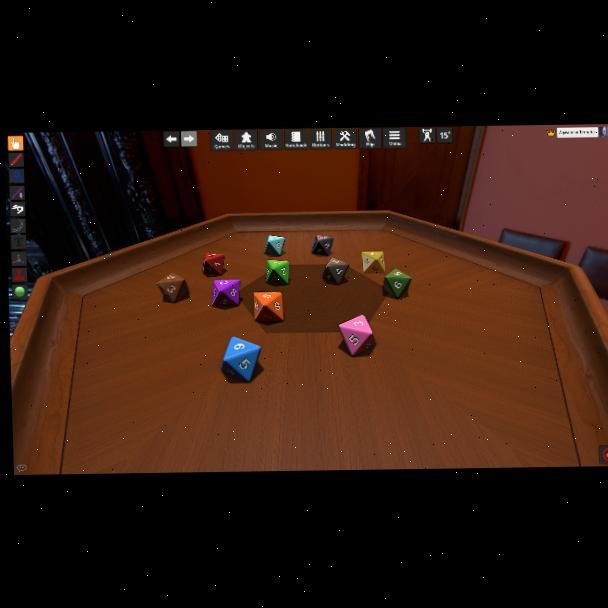d8: (221, 336, 262, 381), (337, 316, 373, 356), (157, 272, 189, 303), (252, 292, 282, 322), (383, 269, 412, 299), (211, 279, 240, 306), (322, 257, 348, 285), (266, 260, 291, 286), (361, 251, 385, 274), (203, 251, 225, 275), (264, 235, 285, 257), (312, 235, 331, 255)
